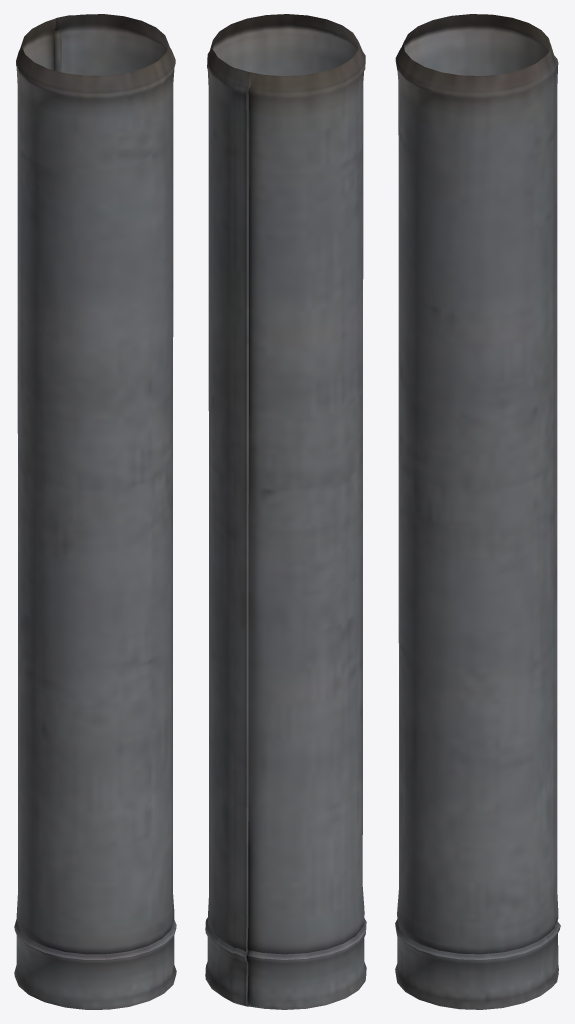
File: modular_metal_gutter_downpipe.glb
3 views of the same model, side by side, from view 1: azimuth 30°, elevation 25°; view 2: azimuth 150°, elevation 25°; view 3: azimuth 270°, elevation 25° (orthographic).
Parts seen in each view (by area): view 1: modular_metal_gutter_downpipe; view 2: modular_metal_gutter_downpipe; view 3: modular_metal_gutter_downpipe.
Part boxes in pixels (x1,y1,x2,y2): modular_metal_gutter_downpipe: [14, 14, 176, 1009]; modular_metal_gutter_downpipe: [205, 14, 366, 1009]; modular_metal_gutter_downpipe: [395, 14, 560, 1009].
Bounding box in the file's own units: 0.1573 × 0.9999 × 0.161.
1 material, 1 textured.
